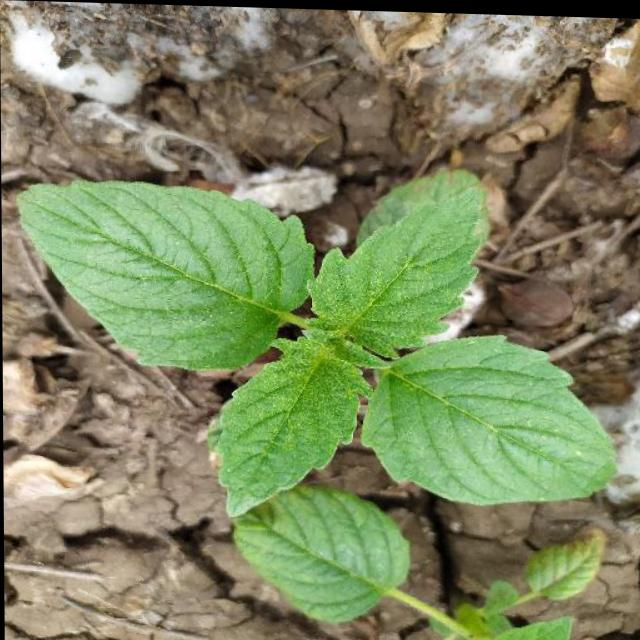crop: (15, 153, 627, 526)
